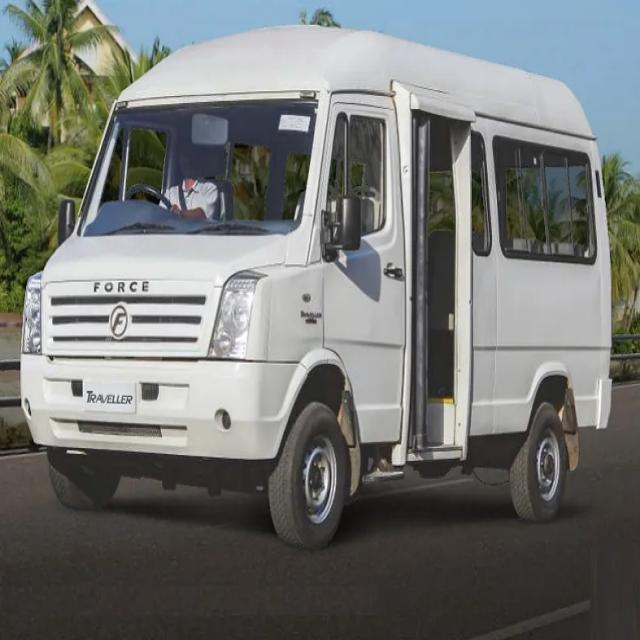Ambulance: (15, 18, 618, 554), (1, 372, 638, 638), (158, 142, 222, 225)
